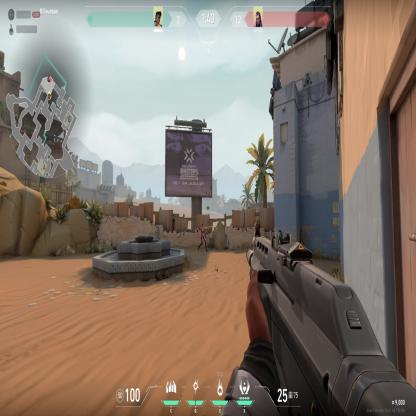enemy: (197, 222, 209, 252)
